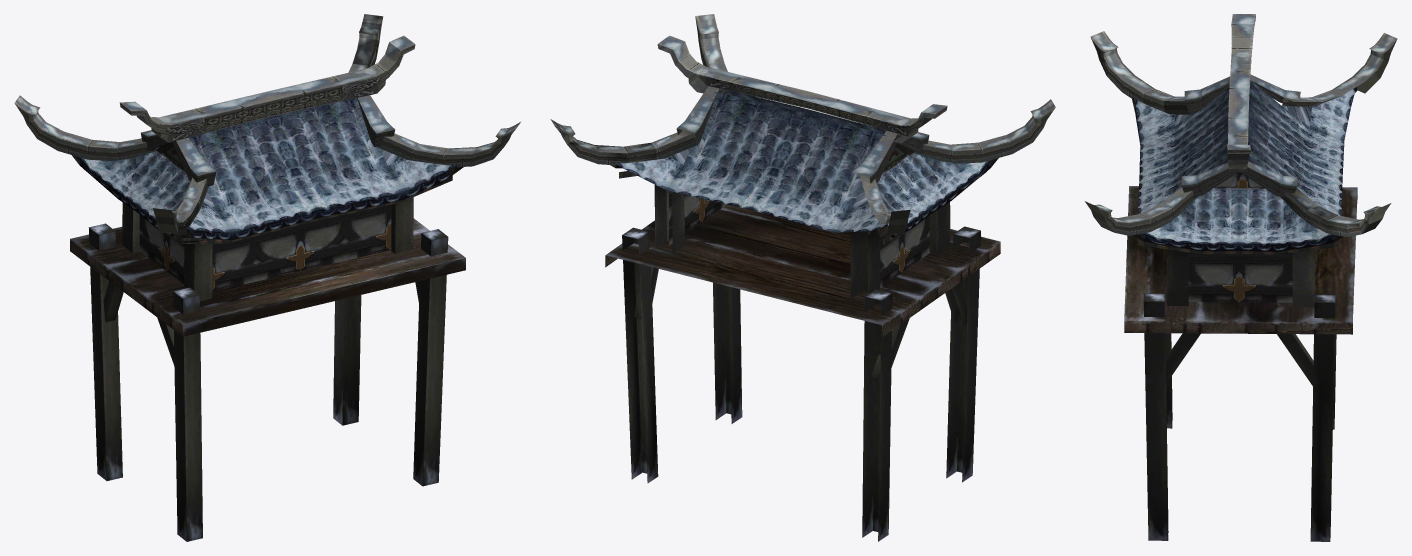
3 views of the same model, side by side, from view 1: azimuth 30°, elevation 25°; view 2: azimuth 150°, elevation 25°; view 3: azimuth 270°, elevation 25° (orthographic).
Visible parts, largest first — view 1: Box004; view 2: Box004; view 3: Box004.
Boxes of the visible parts, bbox=[...] form: Box004: bbox=[14, 14, 520, 541]; Box004: bbox=[550, 14, 1055, 541]; Box004: bbox=[1084, 14, 1397, 541].
Bounding box in the file's own units: 16.5 × 17.28 × 12.29.
